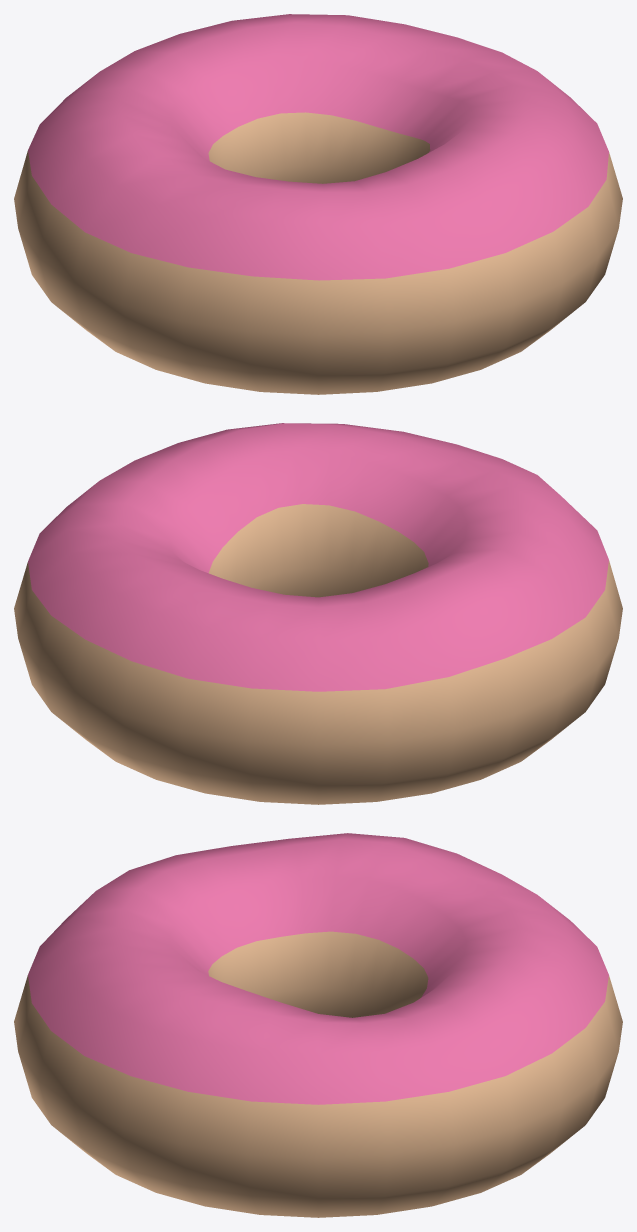
The model's file is Donut.glb.
3 renders of one model, top to bottom at view 1: azimuth 30°, elevation 25°; view 2: azimuth 150°, elevation 25°; view 3: azimuth 270°, elevation 25°, orthographic.
Parts seen in each view (by area): view 1: Icing, Donut; view 2: Icing, Donut; view 3: Icing, Donut.
Part boxes in pixels (box(x1,y1,x2,y2)): Icing: box(28, 14, 608, 280); Donut: box(14, 112, 622, 394); Icing: box(28, 423, 608, 691); Donut: box(14, 504, 622, 804); Icing: box(28, 833, 608, 1104); Donut: box(14, 931, 622, 1217).
Bounding box in the file's own units: 0.1515 × 0.0553 × 0.1518.
